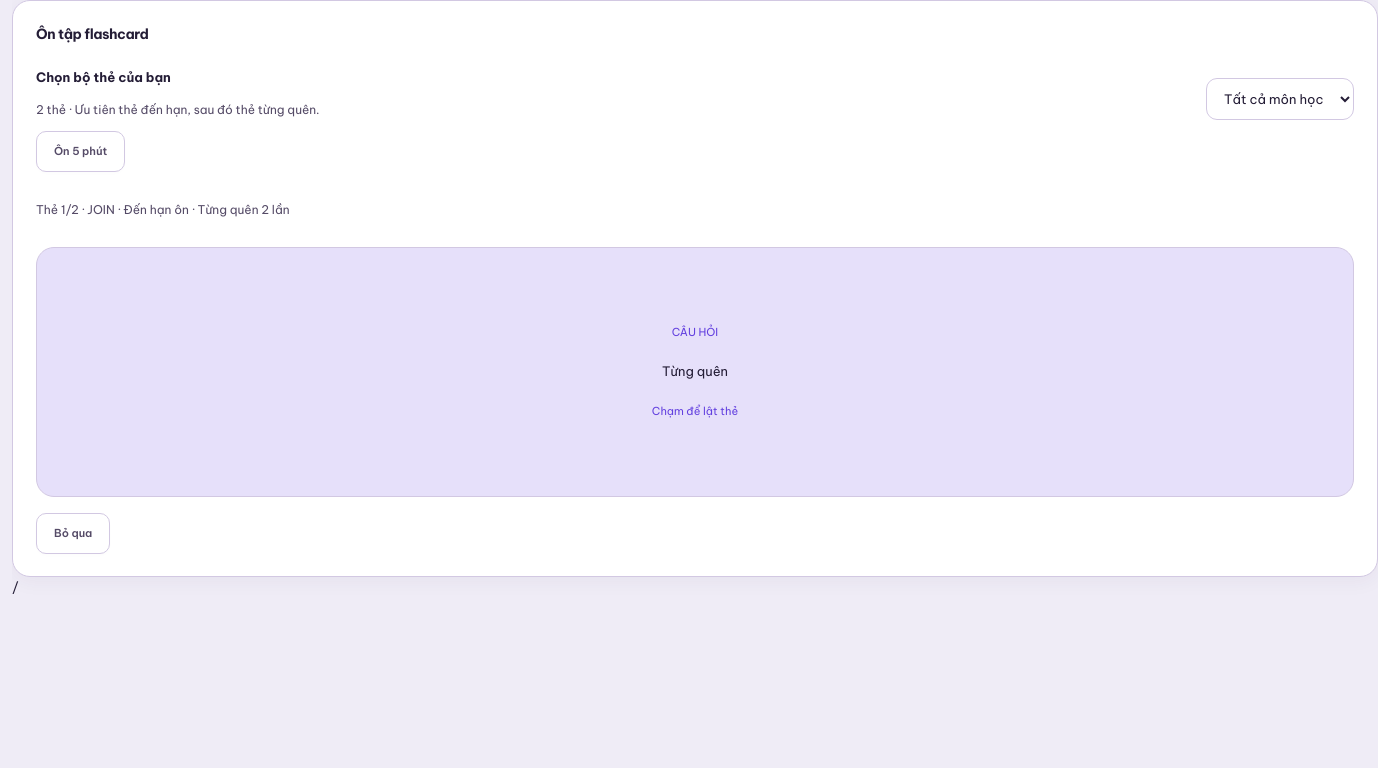
Test: Flashcard and upload workflows › matches subject/topic, prioritizes forgotten due cards and ends five-minute review without an automatic write
Check: the text "Từng quên" is shown, box [662,361,728,383]
Click the button "Ôn 5 phút" at (81, 152), box [36,131,125,172]
Wait 300000 ms
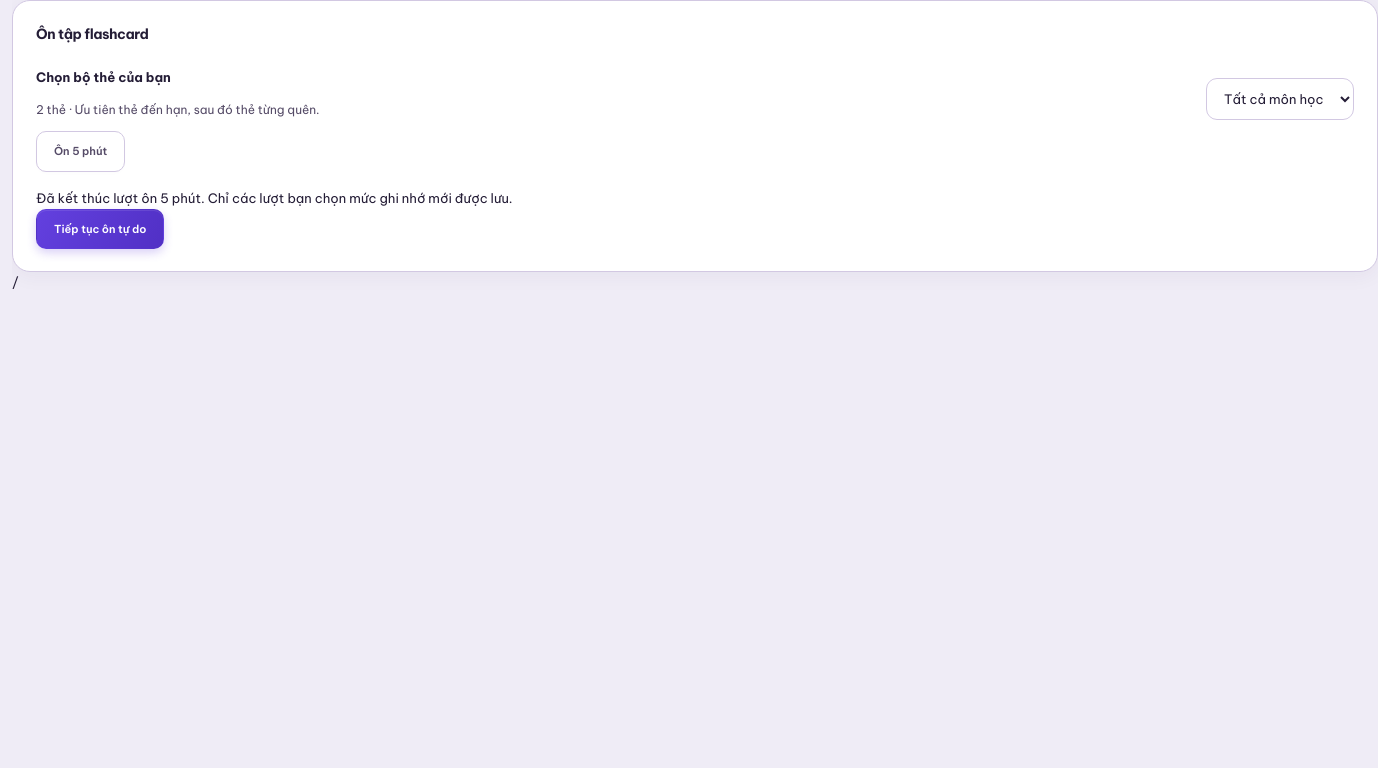
Check: the text "Đã kết thúc lượt ôn 5 phút" is shown, box [36,190,512,206]
